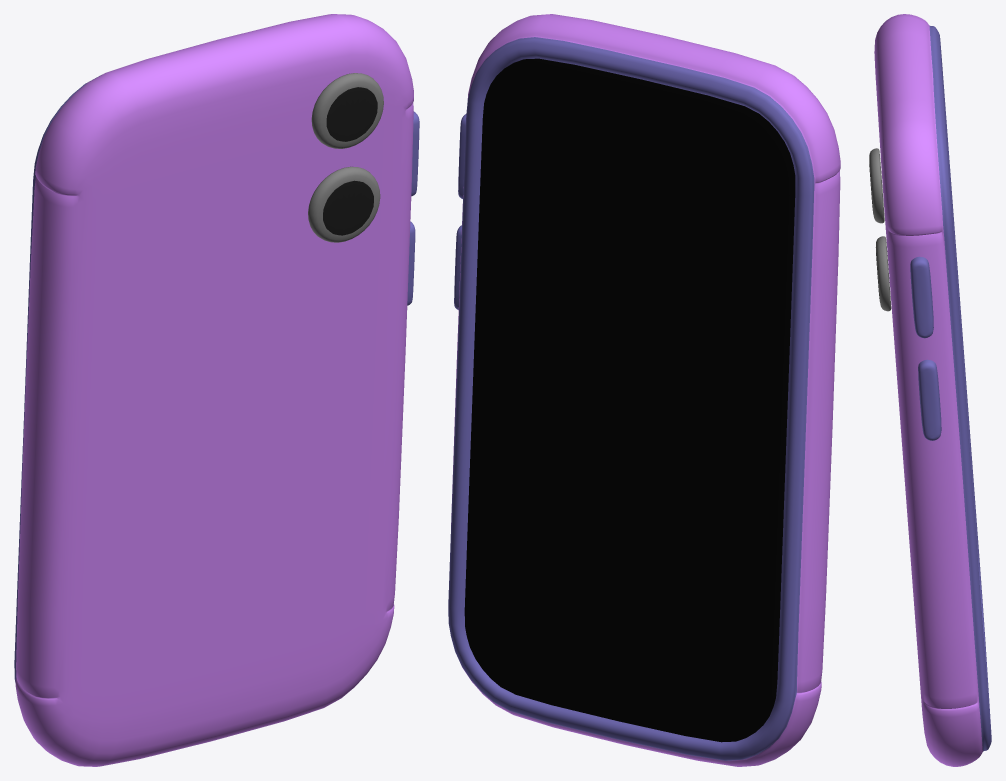
Rendered from minimal_phone.glb.
The picture shows the model from 3 angles, left to right: view 1: azimuth 30°, elevation 25°; view 2: azimuth 150°, elevation 25°; view 3: azimuth 270°, elevation 25°; orthographic projection. The views are drawn at different scales.
Visible parts, largest first — view 1: phone_high.001; view 2: phone_high.002, phone_high.001; view 3: phone_high.001.
Boxes of the visible parts, x1,y1,x2,y2 form: phone_high.001: (14, 14, 419, 766); phone_high.002: (464, 58, 795, 742); phone_high.001: (448, 14, 840, 766); phone_high.001: (869, 14, 991, 766).
Bounding box in the file's own units: 4.23 × 7.56 × 1.29.
